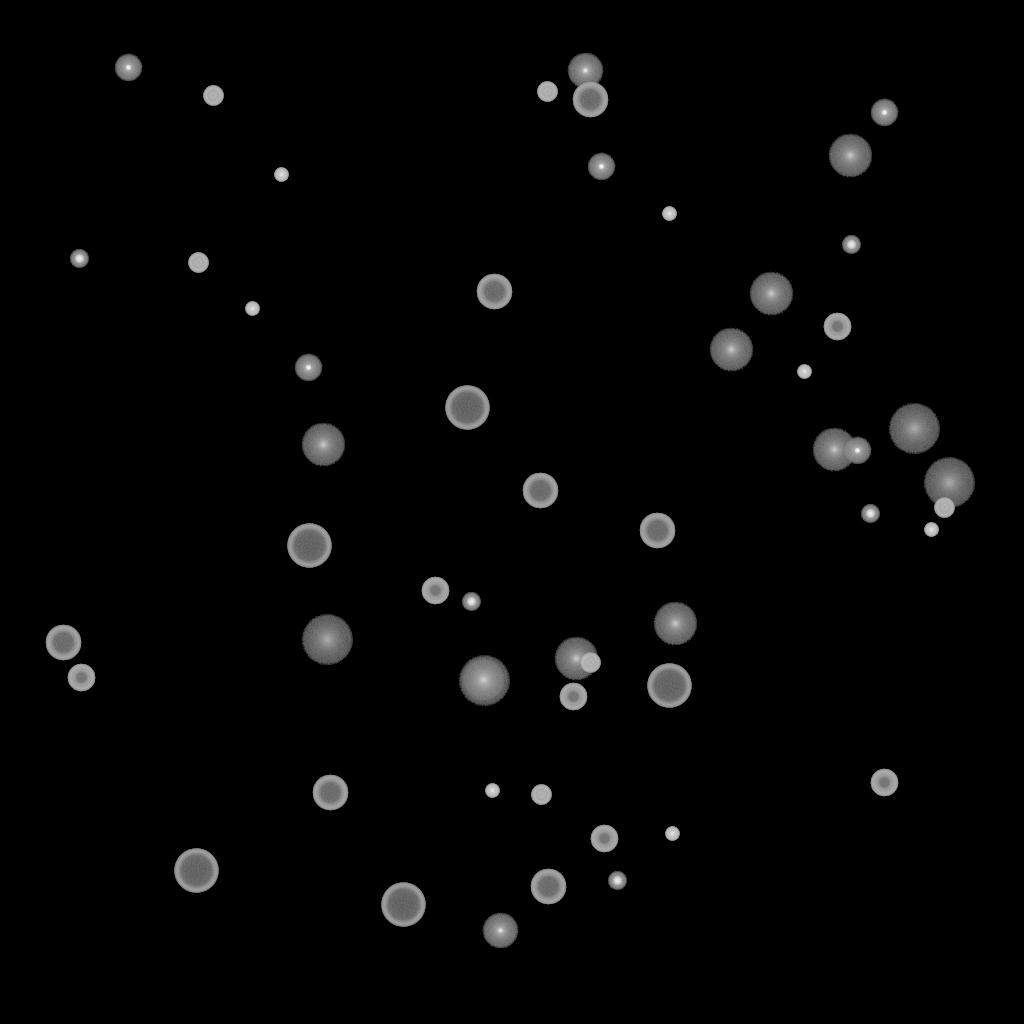depth:-10: (587, 153, 615, 181), (294, 354, 322, 382), (114, 54, 142, 82), (870, 99, 898, 127), (843, 437, 871, 465)
depth:-20: (842, 236, 860, 254), (70, 250, 88, 268), (608, 872, 626, 890), (462, 593, 480, 611), (861, 505, 879, 523)
depth:-30: (485, 784, 499, 798), (797, 365, 811, 379), (245, 302, 259, 316), (665, 827, 679, 841), (662, 207, 676, 221), (924, 523, 938, 537), (274, 168, 288, 182)
depth:-40: (531, 785, 551, 805), (188, 253, 208, 273), (203, 86, 223, 106), (537, 82, 557, 102), (580, 653, 600, 673), (934, 498, 954, 518)
depth:-50: (559, 683, 587, 711), (823, 313, 851, 341), (67, 664, 95, 692), (421, 577, 449, 605), (870, 769, 898, 797), (590, 825, 618, 853)
depth:-60: (312, 775, 348, 811), (639, 513, 675, 549), (522, 473, 558, 509), (476, 274, 512, 310), (572, 82, 608, 118), (45, 625, 81, 661), (530, 869, 566, 905)
depth:-70: (381, 883, 425, 927), (445, 386, 489, 430), (647, 664, 691, 708), (174, 849, 218, 893), (287, 524, 331, 568)
depth:0: (567, 53, 603, 89), (482, 913, 518, 949)
depth:10: (301, 423, 345, 467), (709, 328, 753, 372), (653, 602, 697, 646), (749, 272, 793, 316), (554, 637, 598, 681), (461, 658, 505, 702), (828, 134, 872, 178), (812, 428, 856, 472)
depth:20: (888, 404, 940, 454), (458, 656, 510, 706), (923, 458, 975, 508), (301, 615, 353, 665)
